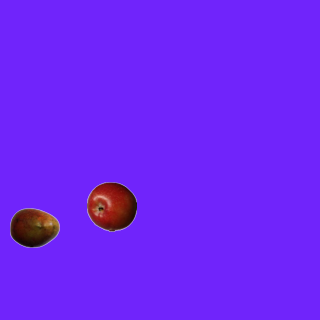Apple Braeburn: (86, 181, 136, 231)
Mango Red: (9, 202, 59, 252)
